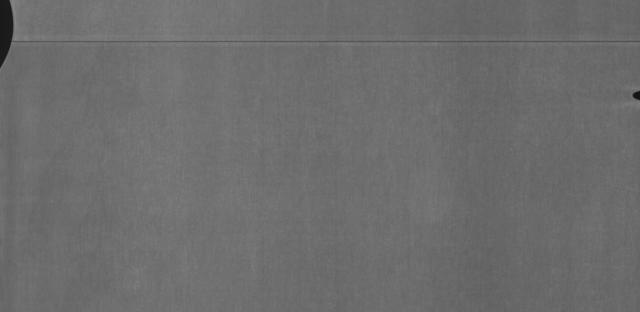crescent_gap: (1, 0, 18, 75)
punching_hole: (628, 87, 640, 104)
welding_line: (2, 34, 640, 53)
